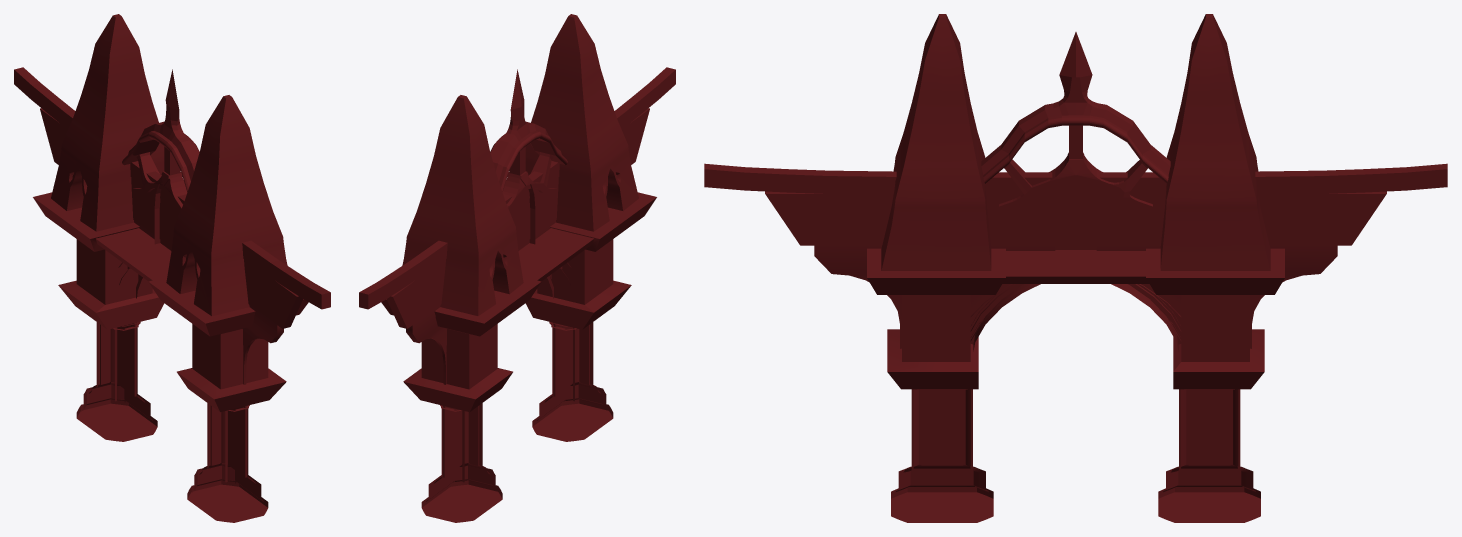
Rendered from Temple_Gate_ver_2.fbx.
3 renders of one model, left to right at view 1: azimuth 30°, elevation 25°; view 2: azimuth 150°, elevation 25°; view 3: azimuth 270°, elevation 25°, orthographic. The views are drawn at different scales.
Visible parts, largest first — view 1: Gothic; view 2: Gothic; view 3: Gothic.
Part boxes in pixels (<box>): Gothic: <box>14,14,330,522</box>; Gothic: <box>359,14,675,522</box>; Gothic: <box>704,14,1447,522</box>.
Size of the model in its own units: 35.5 by 129 by 177.
